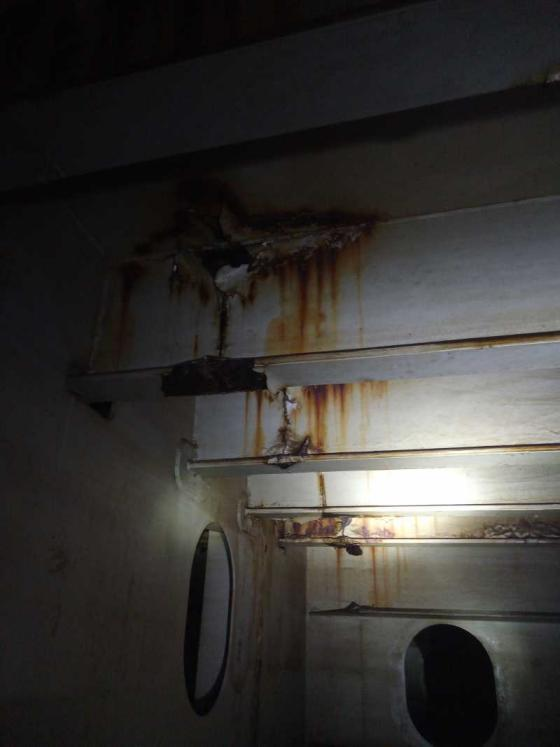corrosion: (273, 251, 315, 348), (360, 542, 414, 605), (349, 229, 376, 348), (201, 281, 240, 356), (352, 374, 392, 444), (236, 384, 273, 456), (296, 380, 331, 448), (472, 514, 548, 542), (267, 513, 341, 540), (340, 511, 399, 544), (327, 239, 344, 342), (314, 244, 328, 346), (335, 376, 350, 445), (328, 548, 345, 595), (311, 467, 330, 502)
